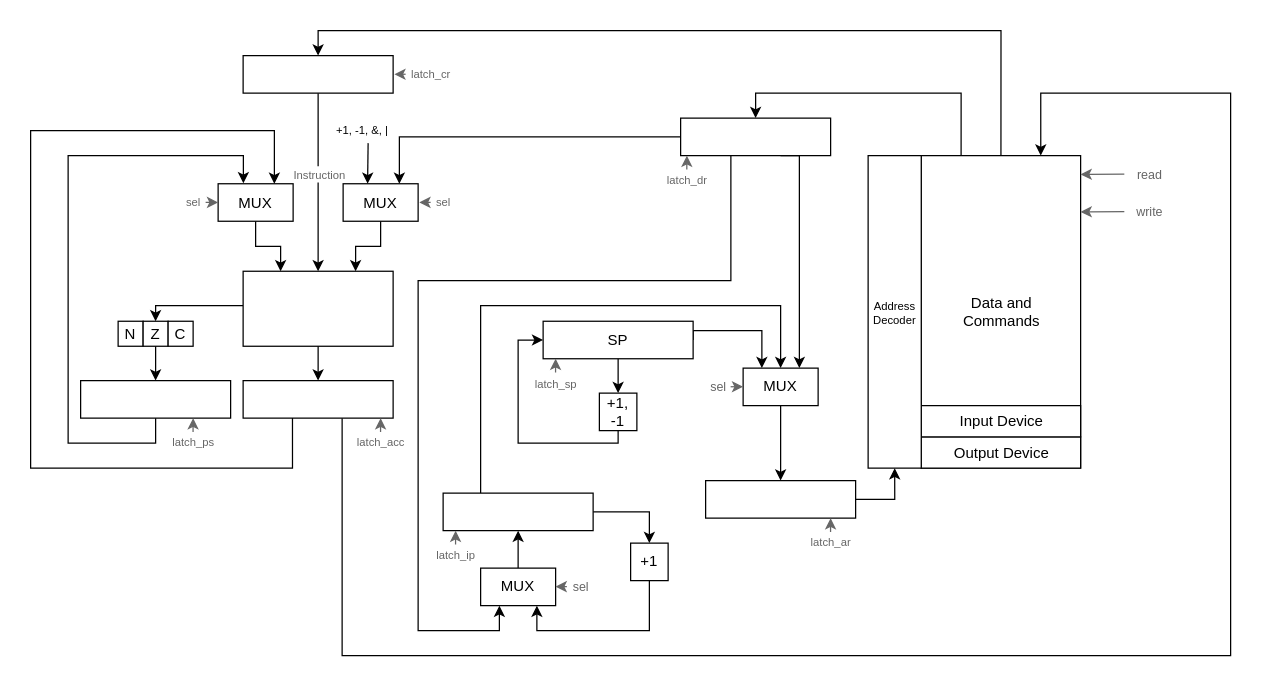
Some shapes in this 1263 by 688 pixel diagram are drawn without their labels. Here are the shapes that lost their labels. From the top down, the centre of each, then its label:
At (x=317, y=73): "CR".
At (x=755, y=136): "DR".
At (x=317, y=308): "ALU".
At (x=155, y=398): "PS".
At (x=317, y=398): "ACC".
At (x=517, y=511): "IP".
At (x=780, y=498): "AR".
